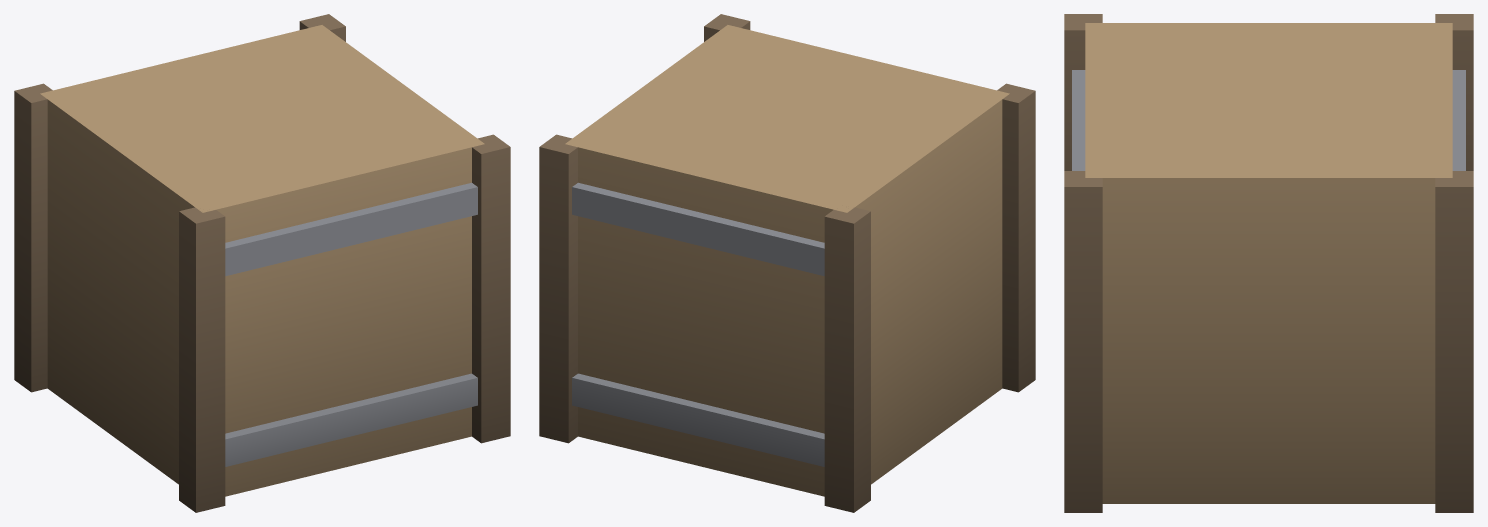
File: rig_crate.glb
3 renders of one model, left to right at view 1: azimuth 30°, elevation 25°; view 2: azimuth 150°, elevation 25°; view 3: azimuth 270°, elevation 25°, orthographic. The views are drawn at different scales.
Visible parts, largest first — view 1: rig_crate; view 2: rig_crate; view 3: rig_crate.
Part boxes in pixels (x1,y1,x2,y2): rig_crate: (14,14,510,512); rig_crate: (539,14,1035,512); rig_crate: (1064,14,1473,512).
Size of the model in its own units: 1.07 by 0.94 by 1.07.
